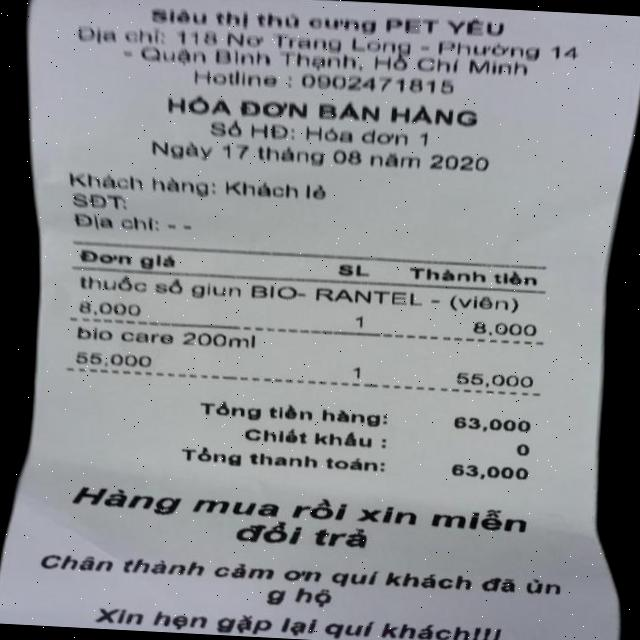Date: (140, 134, 498, 180)
Store_Name: (137, 0, 518, 45)
amount_number: (438, 454, 541, 484)
label_total: (165, 444, 398, 478)
